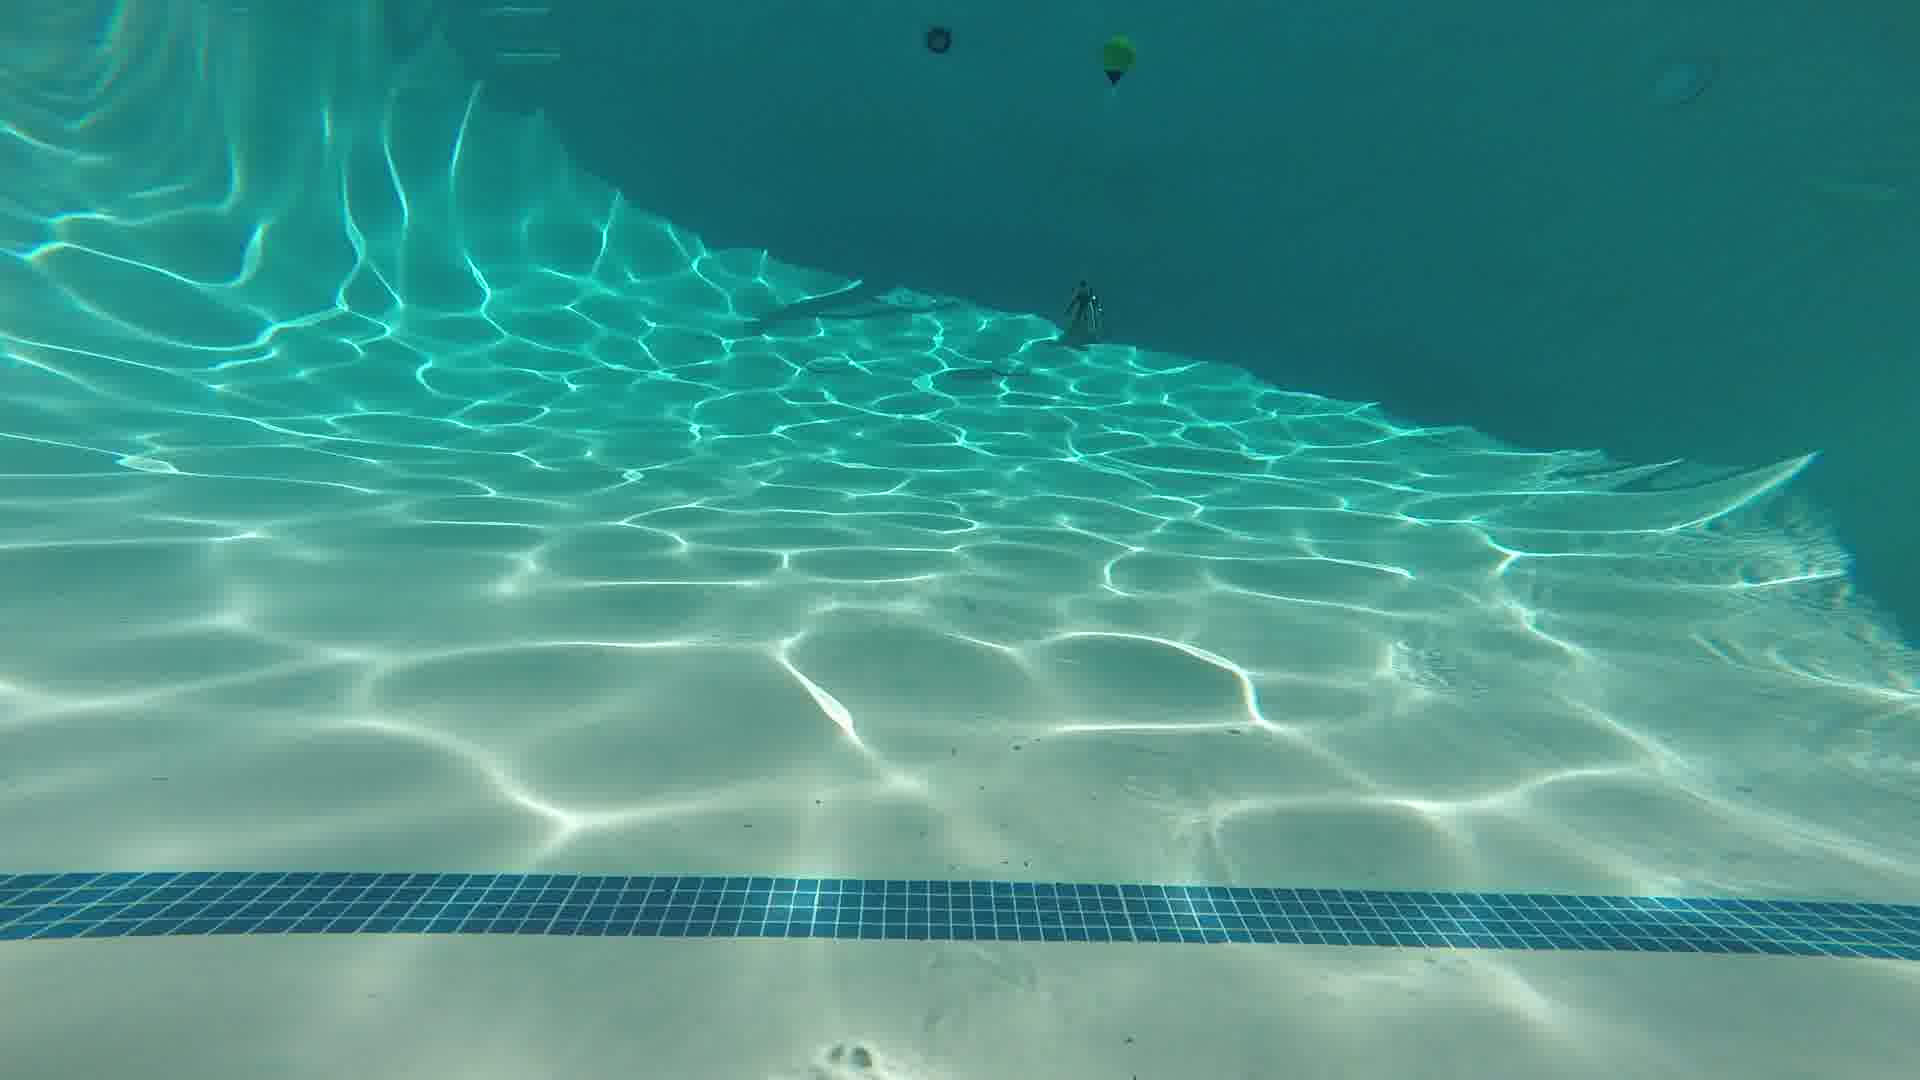yellow buoy: (1095, 32, 1139, 96)
